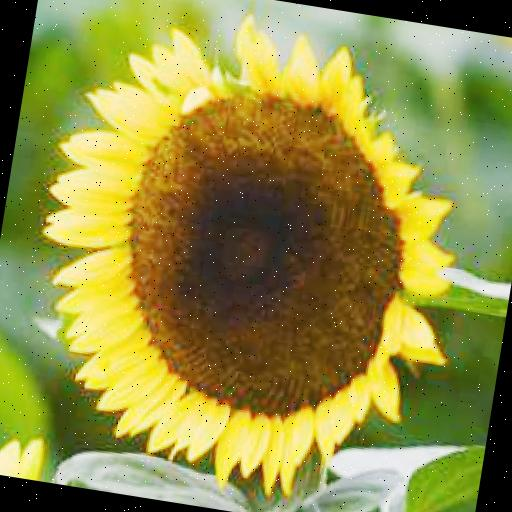sunflower: (14, 12, 481, 512)
